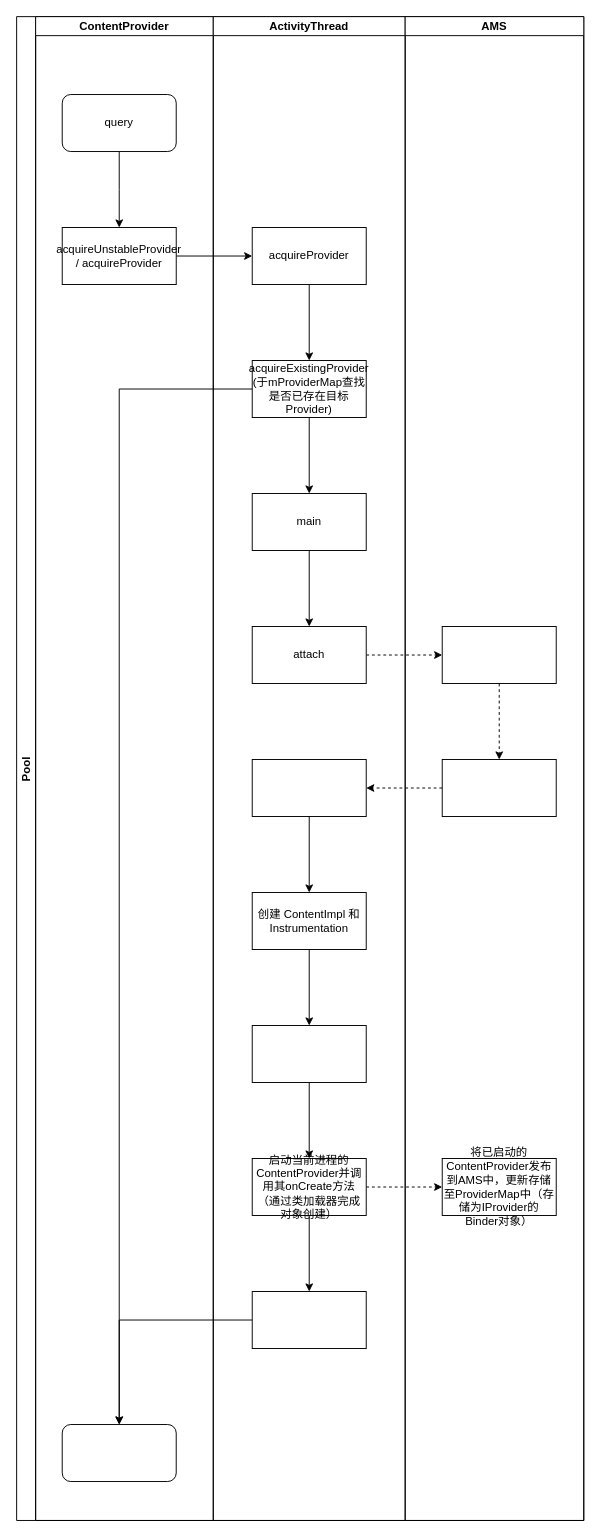
Some shapes in this 600 by 1537 pixel diagram are drawn without their labels. Each missing label, with the centre of its shape:
"attachApplication" belongs at (498,655).
"attachApplicationLocked" belongs at (498,788).
"handleBindApplication" belongs at (308,788).
"创建 Application 对象" belongs at (308,1054).
"结束" belongs at (118,1453).
"调用Application的onCreate方法" belongs at (308,1320).
